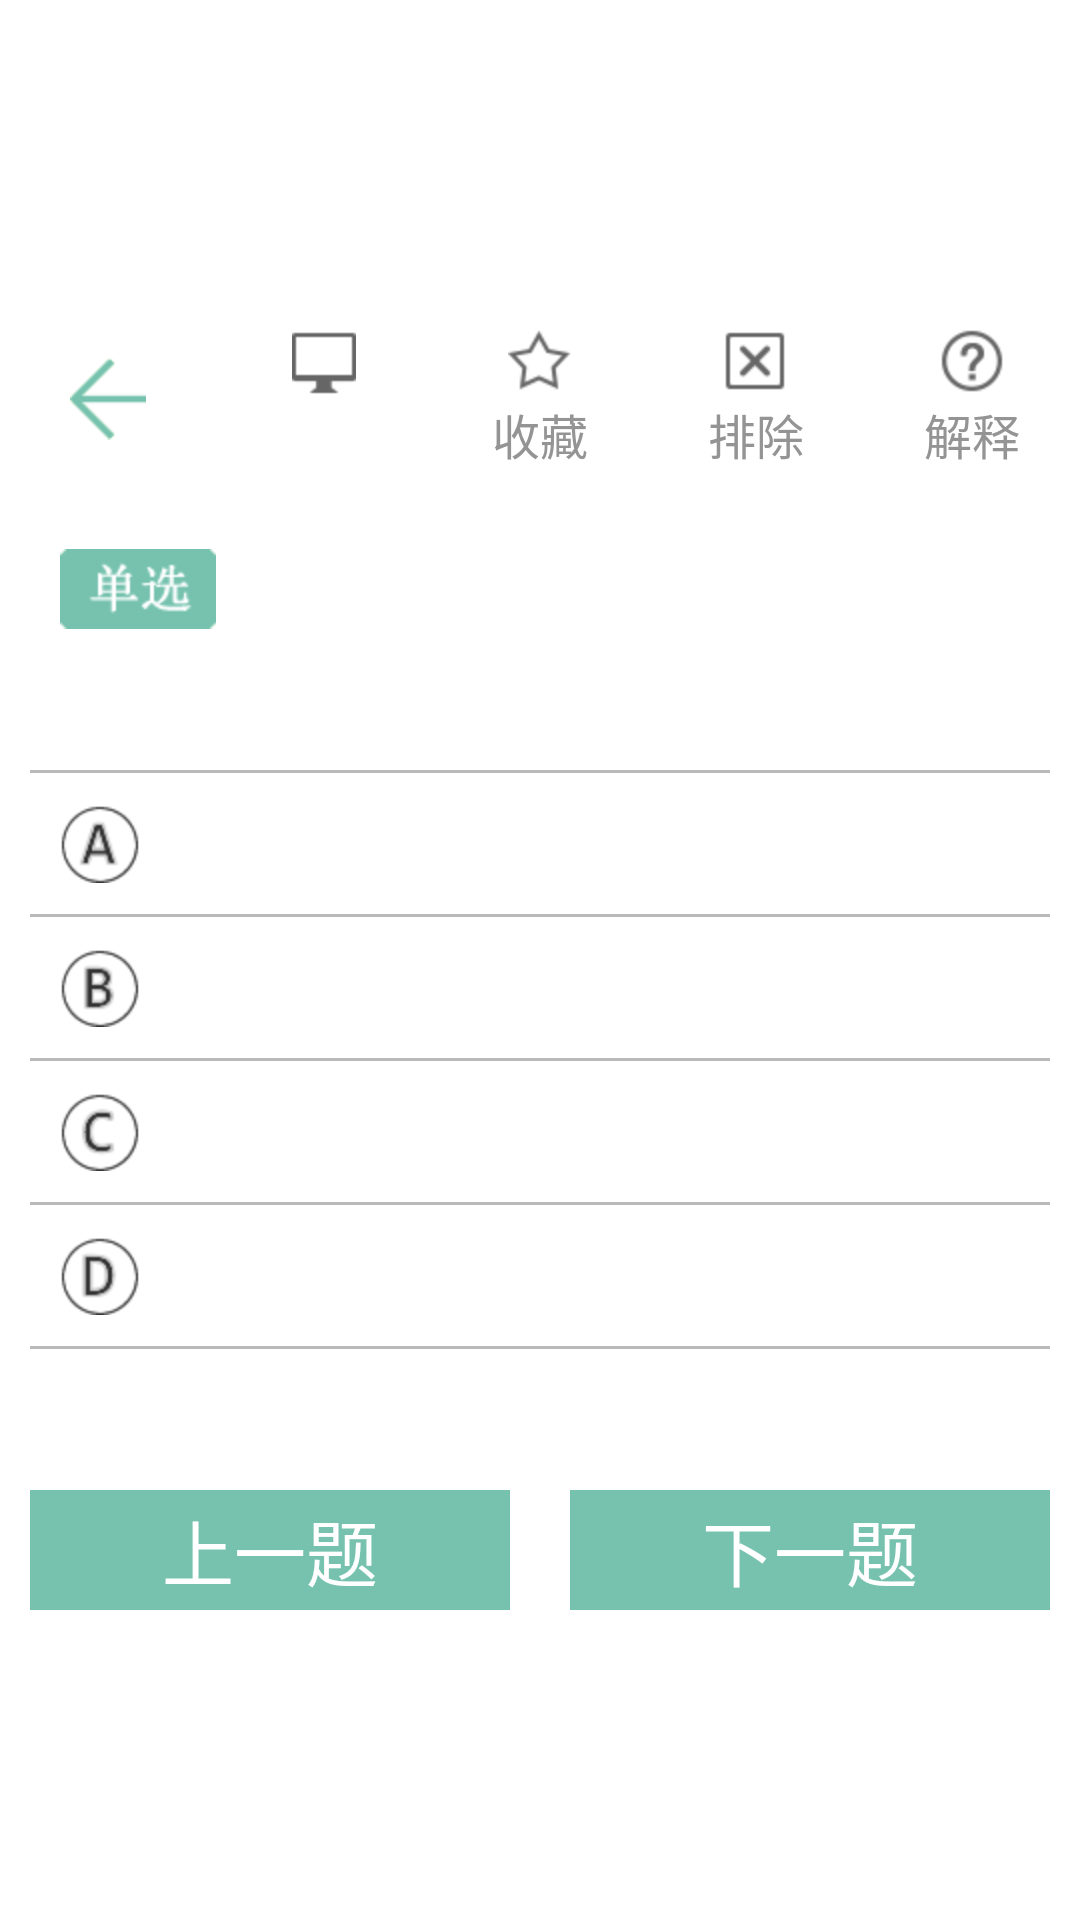

Icons on this 1080 x 1920 Android screen, each with the point to tap as [x,y]:
imacicon examin jindu: [324,363]
